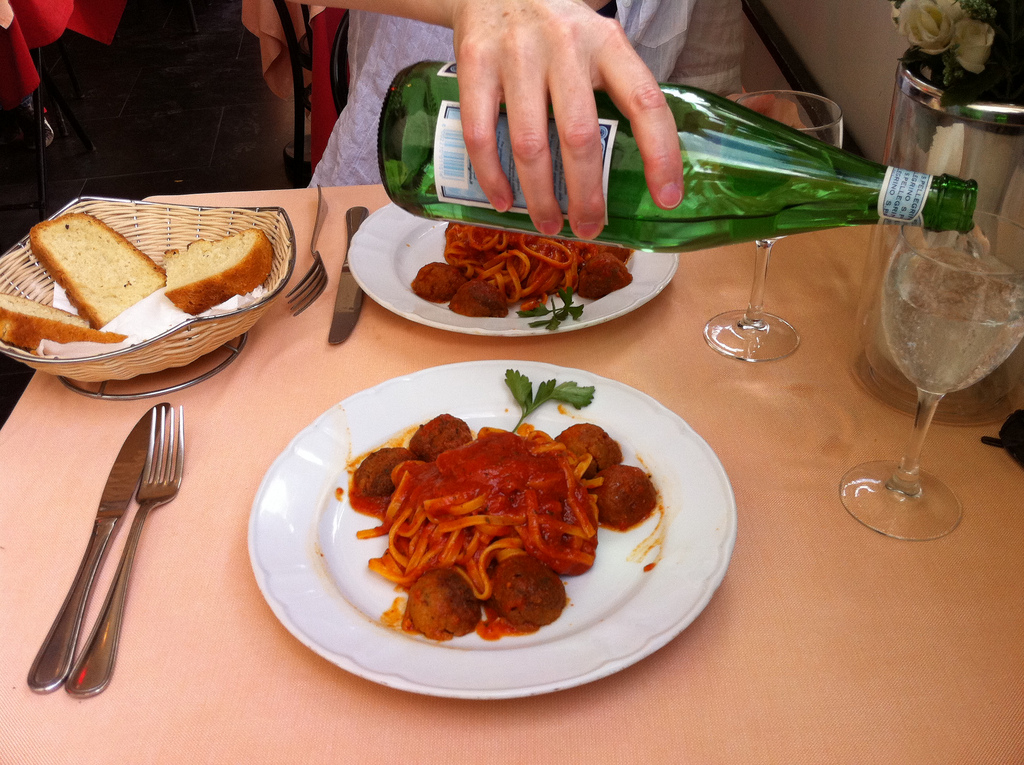glass of water: (365, 71, 983, 252), (848, 198, 1018, 557)
meatballs: (483, 546, 569, 626), (401, 566, 487, 642), (591, 462, 662, 533), (558, 420, 629, 473), (351, 439, 420, 489), (413, 410, 475, 459), (452, 276, 513, 324), (569, 249, 632, 295), (413, 256, 461, 301)
plain spaghetti: (393, 436, 596, 578), (459, 230, 567, 292)
slice of bread: (22, 202, 165, 331), (155, 226, 285, 310), (1, 287, 110, 365)
